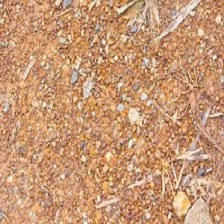sandy_soil: (9, 15, 216, 212)
